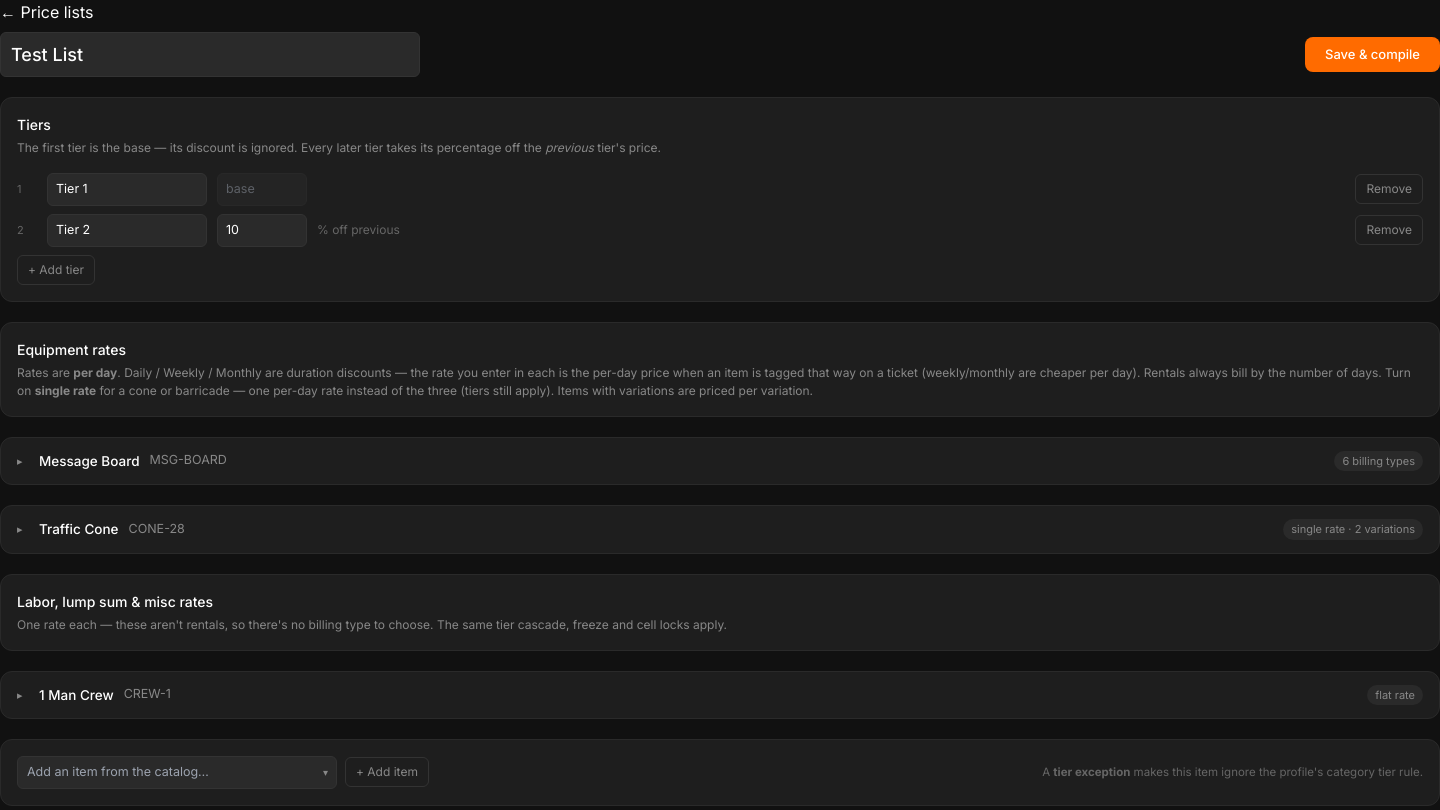
price-list editor — collapse + single-rate + per-variation grids › a single-rate item shows one Rate row, not the cadences
Click the text "CONE-28" at x=157, y=529, box [128,520,185,539]
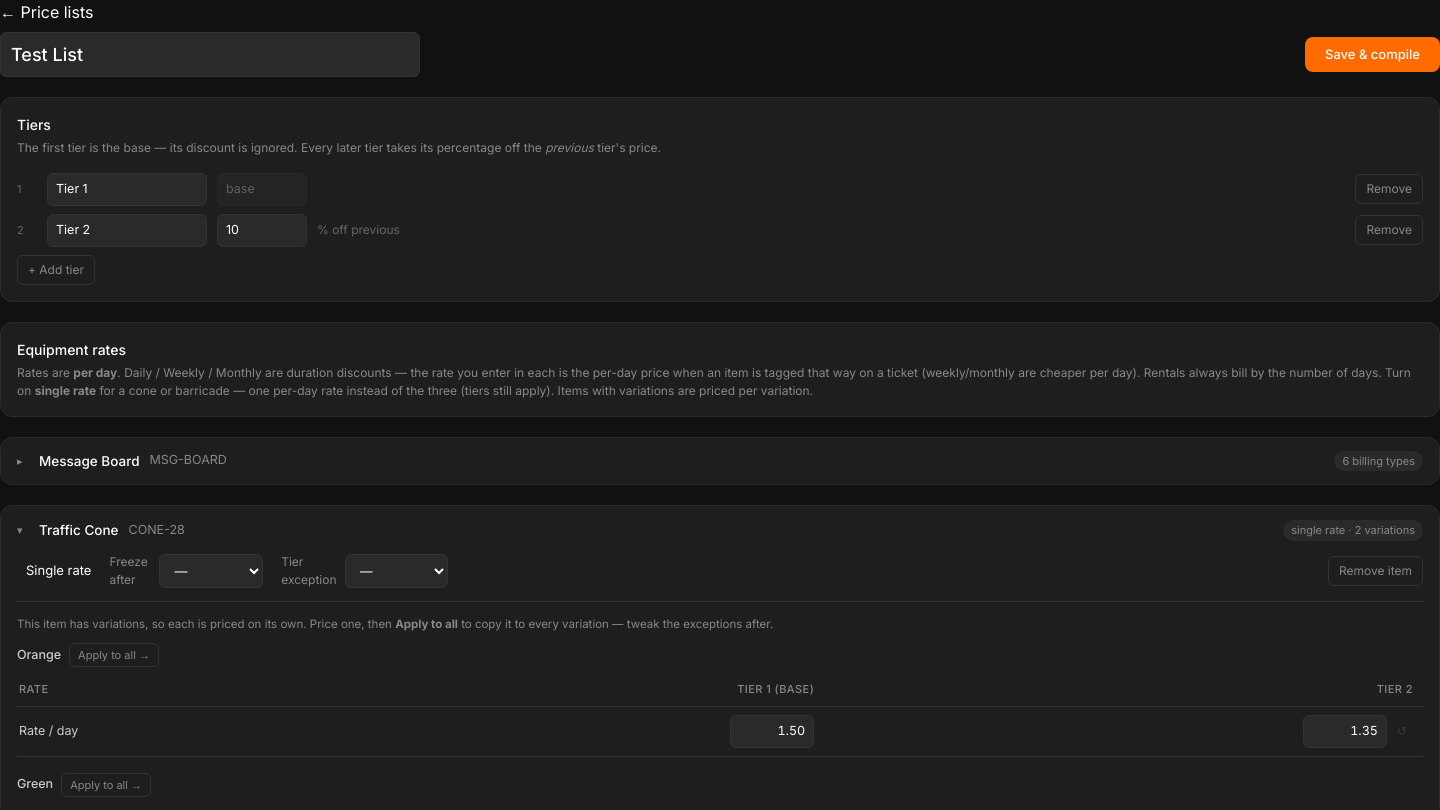
expect the field named "CONE-28 Orange rate base" is shown: met, box [730,715,814,748]
